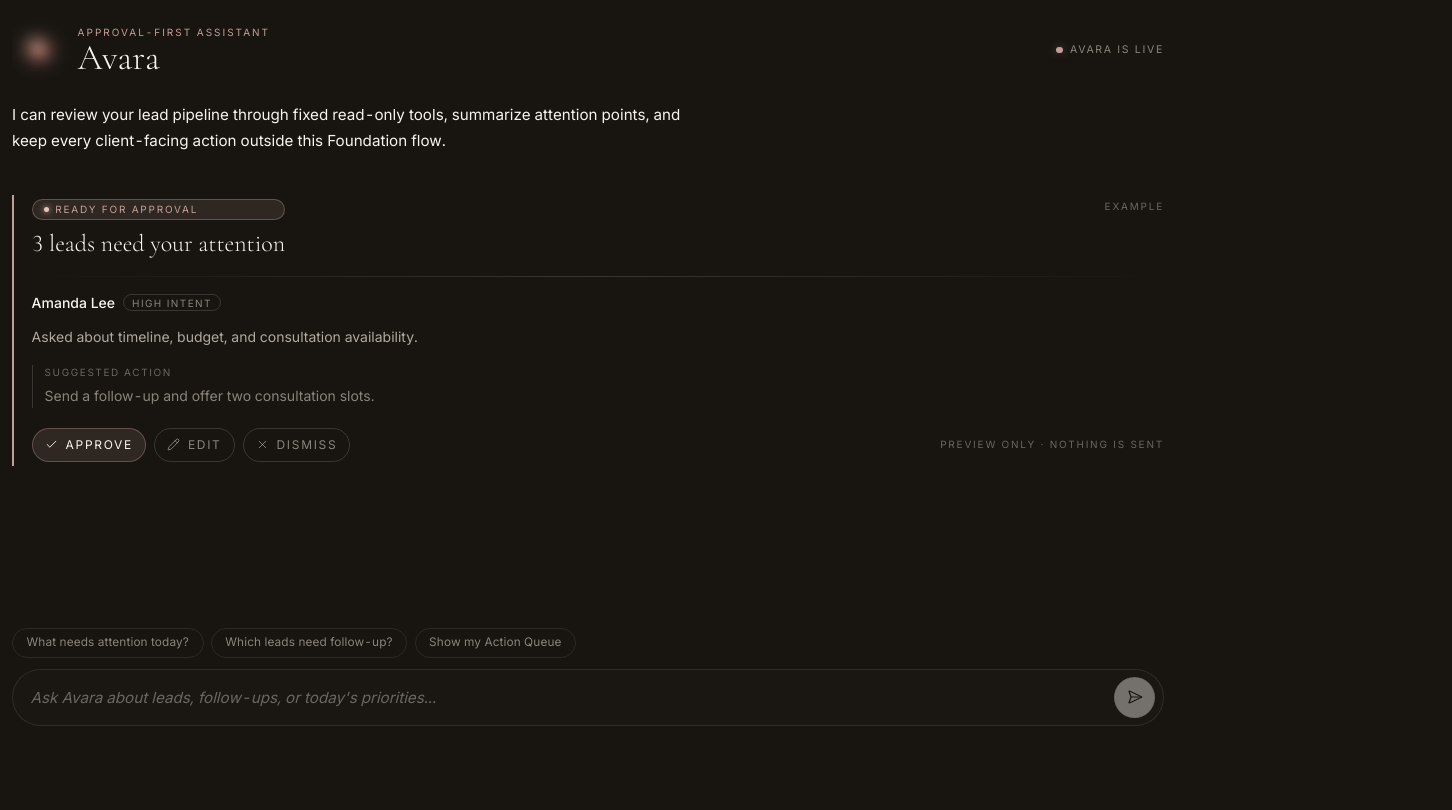
Test: v2.9 active Avara UI skeletons › renders the clean Avara workspace chat and local approval preview
Later steps or results of the test are not shown.
Expected: the heading "Avara" is shown, [78,36,160,78]
Expected: the text "Avara is live" is shown, [1056,45,1164,55]
Click the button "Which leads need follow-up?" at [309, 643], box [211,628,407,658]
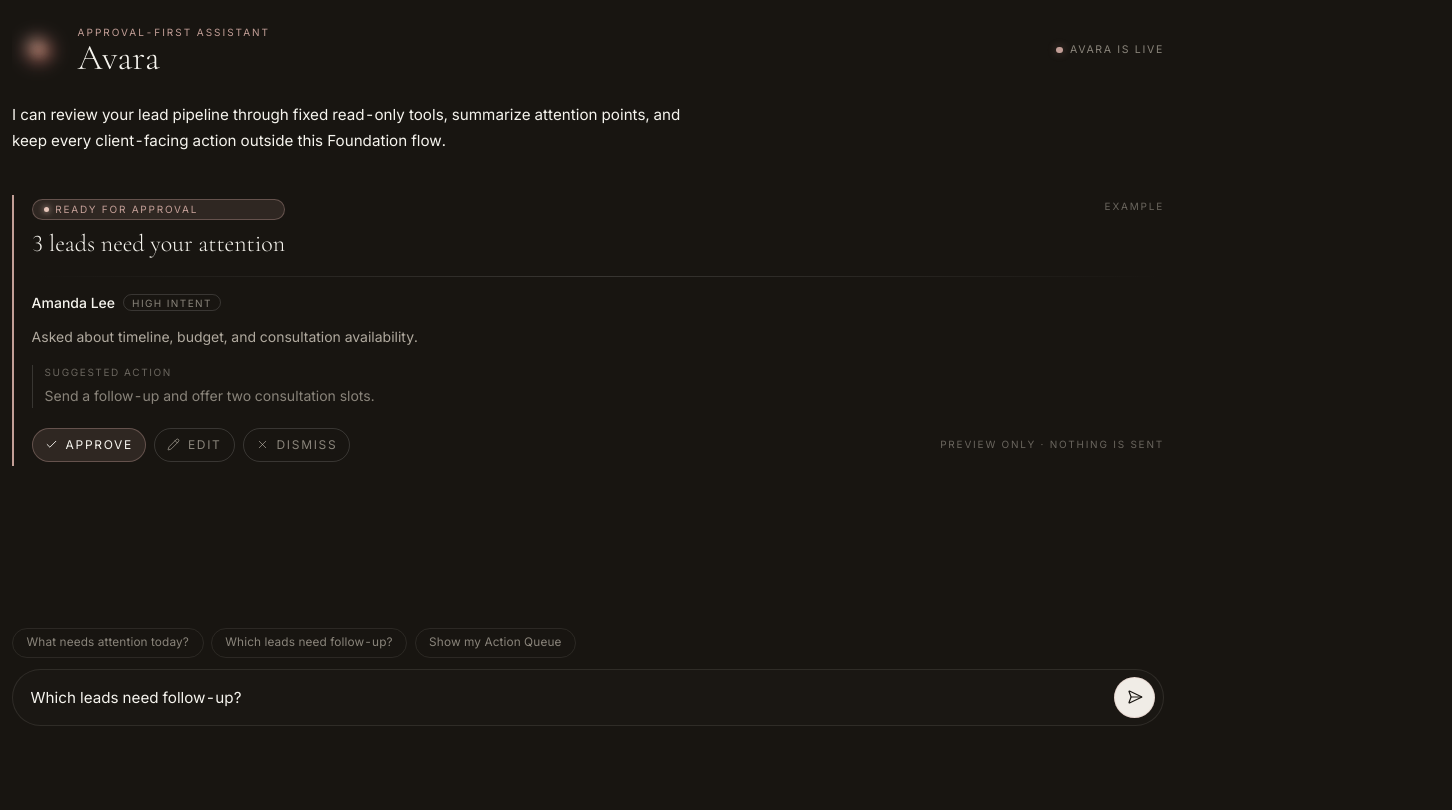
Expected: the field named "avara chat prompt" holds "Which leads need follow-up?", [31,687,1103,710]
Click the button named "send avara prompt" at [1135, 697], box [1114,677,1155,718]
Wait 2160 ms
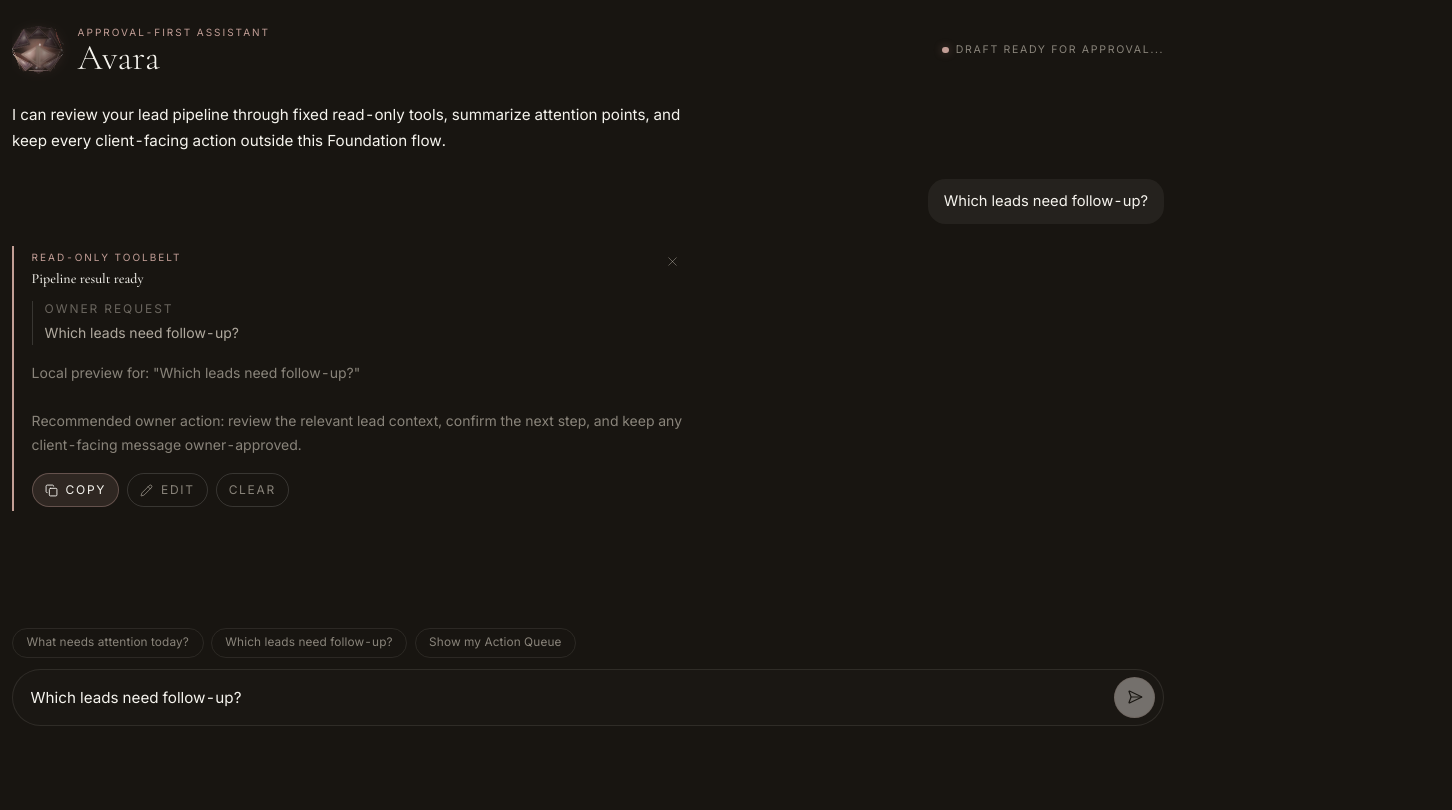
Expected: the heading "Pipeline result ready" is shown, [32,270,144,287]
Expected: the button "Copy" is shown, [32,473,119,507]
Expected: the button "Clear" is shown, [216,473,289,507]
